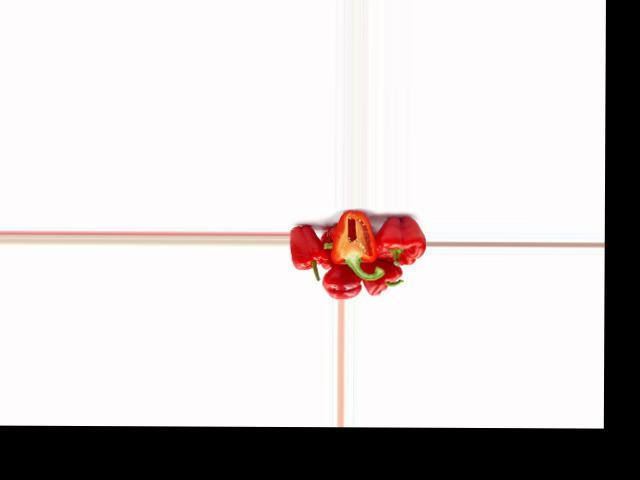bell_pepper: (360, 261, 403, 296)
